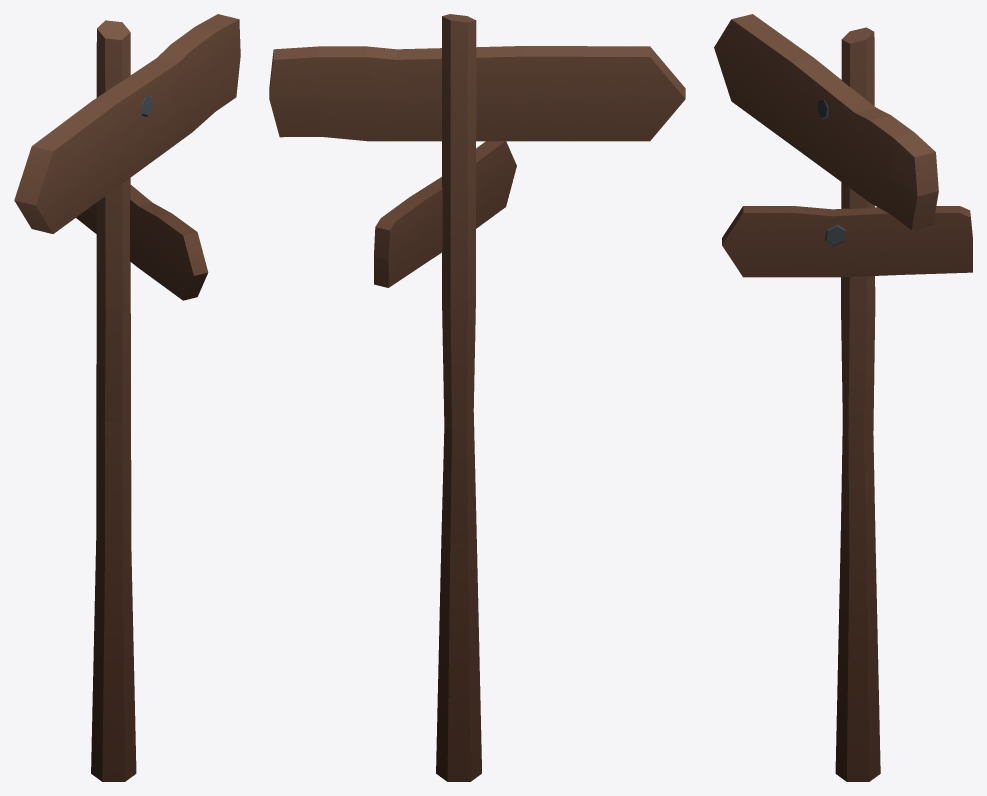
The model's file is znak4.fbx.
3 renders of one model, left to right at view 1: azimuth 30°, elevation 25°; view 2: azimuth 150°, elevation 25°; view 3: azimuth 270°, elevation 25°, orthographic. The views are drawn at different scales.
Parts seen in each view (by area): view 1: znak4, slup4; view 2: znak4, slup4; view 3: znak4, slup4, gwozdzie4.
Part boxes in pixels (<box>): znak4: <box>14,14,240,300</box>; slup4: <box>91,20,136,781</box>; znak4: <box>269,46,685,287</box>; slup4: <box>436,14,481,781</box>; znak4: <box>714,14,972,277</box>; slup4: <box>835,27,880,781</box>; gwozdzie4: <box>817,99,846,245</box>.
Bounding box in the file's own units: 89.57 × 201 × 63.6.
